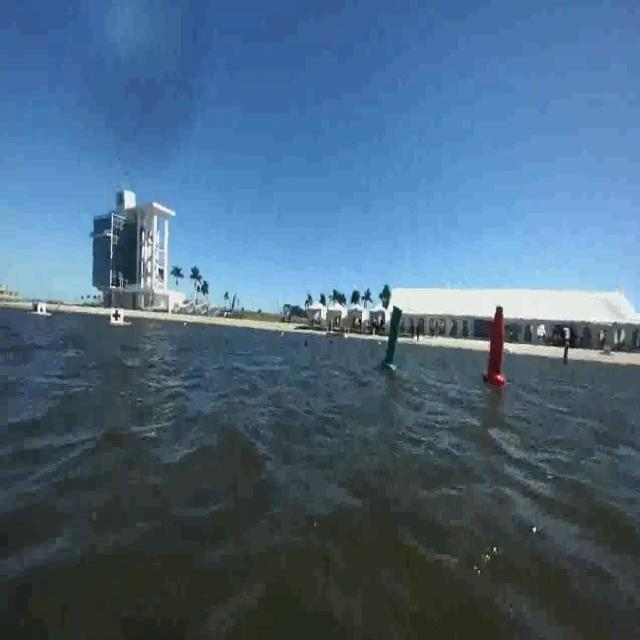green-column-buoy: (381, 305, 404, 372)
red-column-buoy: (482, 305, 508, 386)
